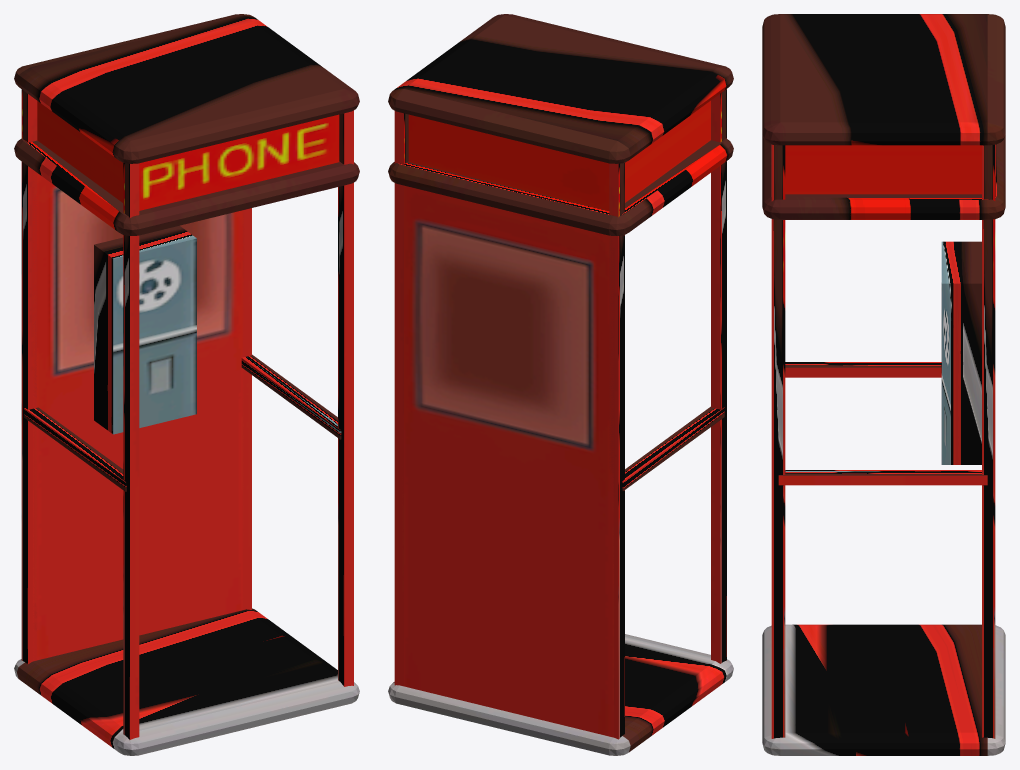
The model's file is Britphon.glb.
3 views of the same model, side by side, from view 1: azimuth 30°, elevation 25°; view 2: azimuth 150°, elevation 25°; view 3: azimuth 270°, elevation 25° (orthographic). The views are drawn at different scales.
Visible parts, largest first — view 1: Britphon; view 2: Britphon; view 3: Britphon.
Boxes of the visible parts, box(x1,y1,x2,y2) form: Britphon: box(14, 14, 359, 755); Britphon: box(388, 14, 733, 755); Britphon: box(762, 14, 1005, 755).
Bounding box in the file's own units: 174 × 424 × 148.
Materials: 1 (1 with a texture image).
